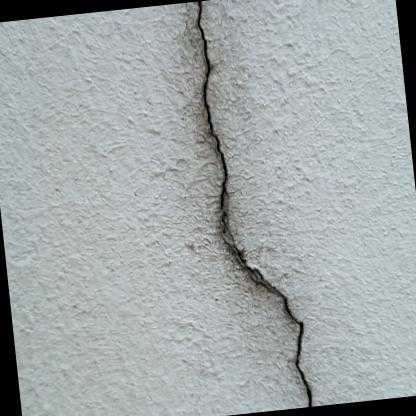crack: (235, 245, 311, 407), (196, 0, 227, 212)
